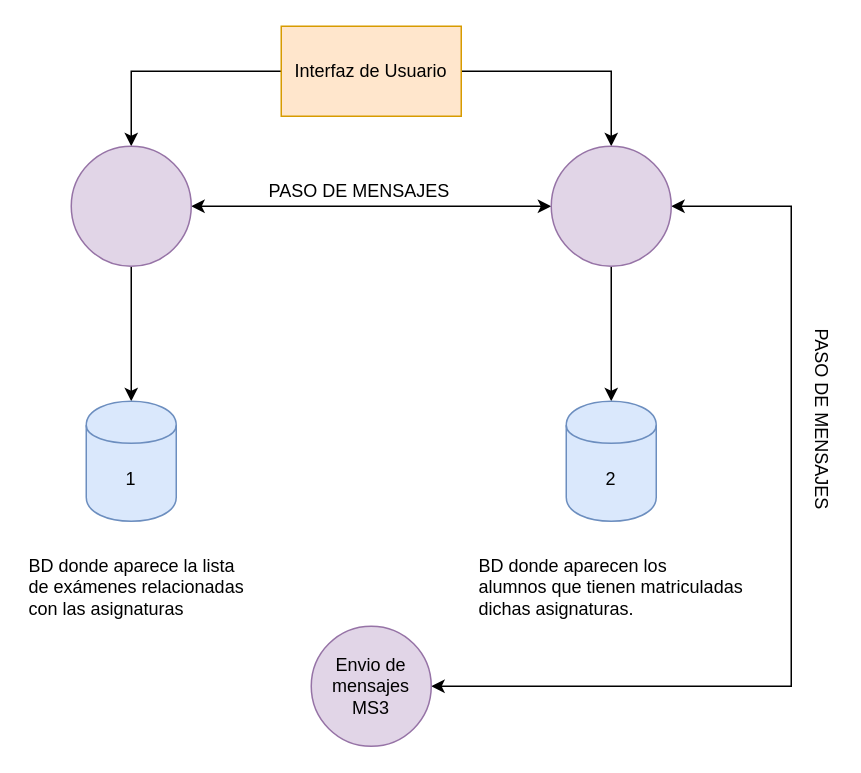
Image size: 861x773. Some labels were removed from this diagram. Here are the shapes that lost their labels. From the top down, the centre of each, then its label:
(130,205): Gestión de exámenes MS1
(610,205): Gestión de alumnos MS2
